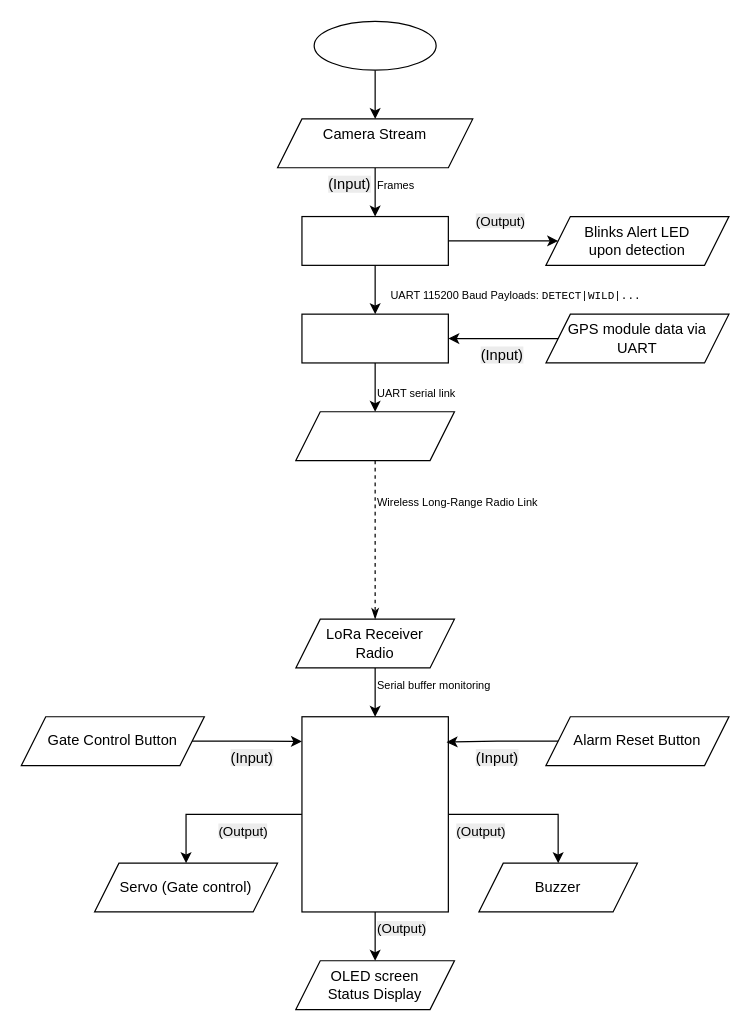
This 750x1031 diagram has some shape labels left out. The box of each missing label's shape, as (x1, y1, x2, y2) in pixels:
ESP Receiver Controller: (301, 716, 448, 912)
ESP32 Gateway Node: (301, 313, 448, 363)
LoRa Transmitter Radio: (295, 411, 454, 461)
Raspberry Pi3 (YOLOv8): (301, 215, 448, 265)
Start: (313, 20, 436, 70)
